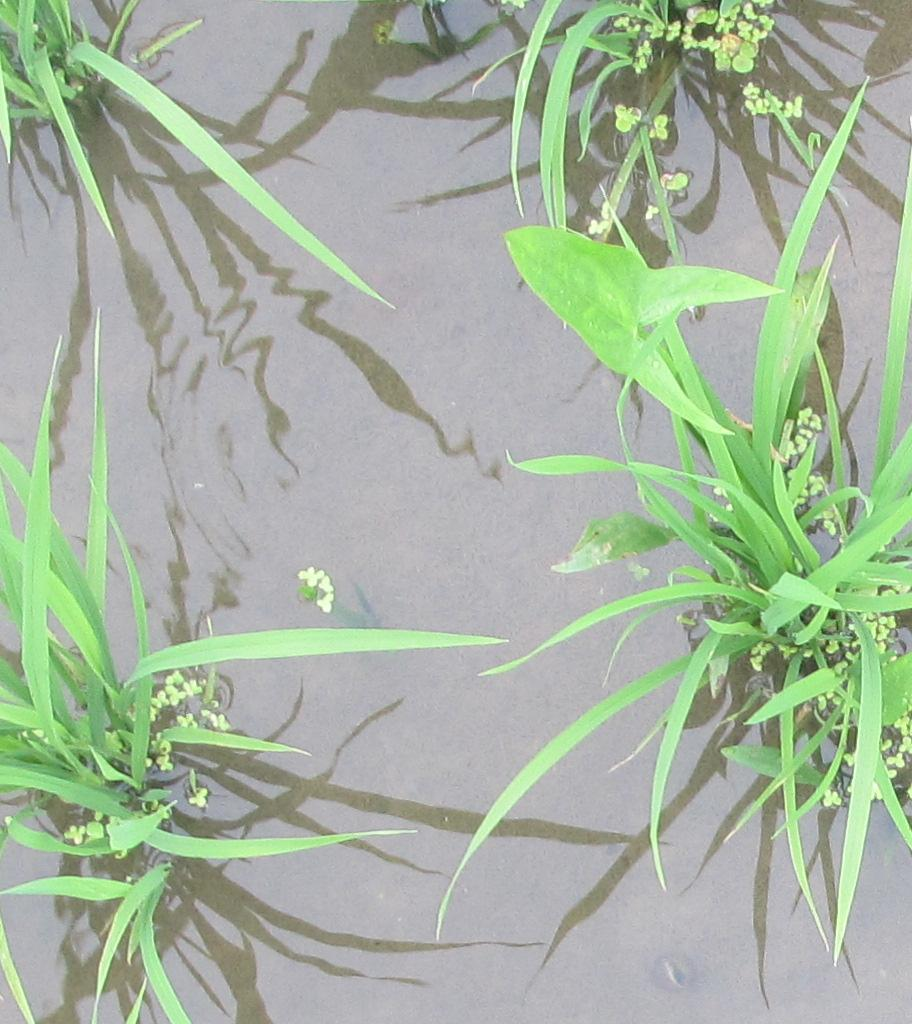Weed: (496, 219, 797, 413), (796, 616, 907, 800)
